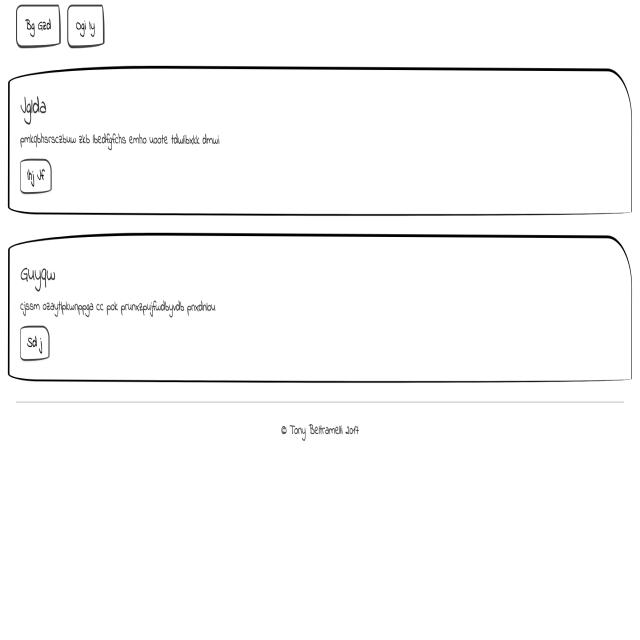Button: (16, 323, 54, 368), (16, 158, 55, 197)
Card: (3, 62, 640, 222), (4, 232, 640, 389)
Footer: (2, 397, 640, 638)
Heading 6: (15, 259, 66, 291), (16, 89, 51, 125)
Navigation Bar: (9, 2, 115, 54)
Paragraph: (15, 288, 222, 324), (17, 128, 227, 158)
